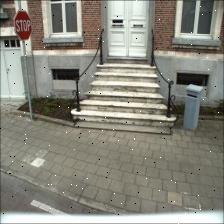Stop: (13, 9, 32, 41)
